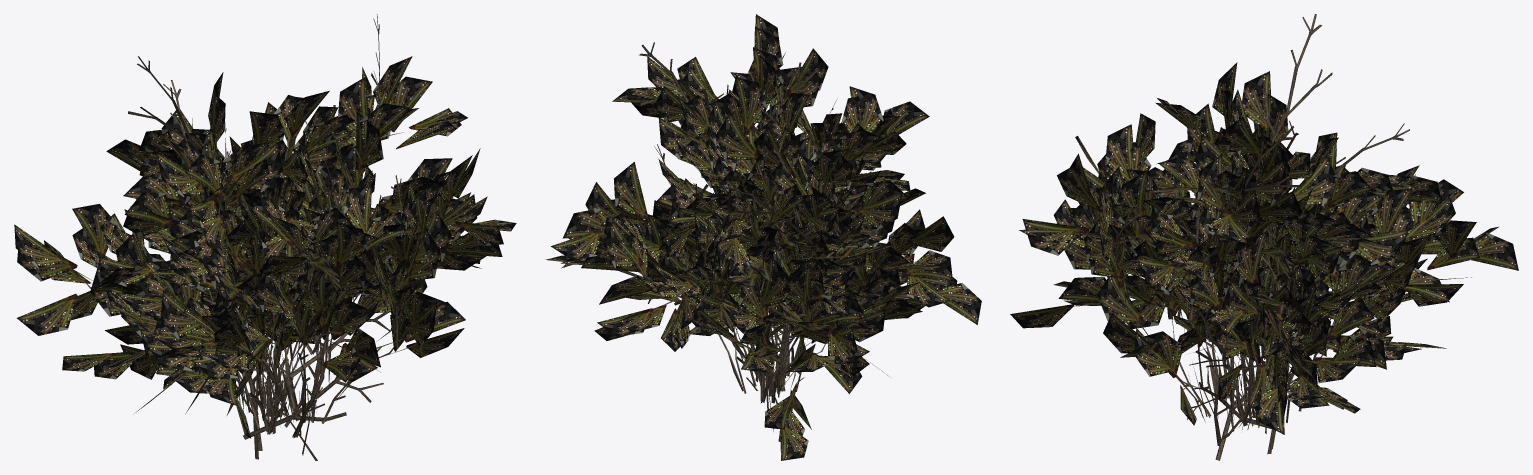
The model's file is wild_rooibos_bush.glb.
The picture shows the model from 3 angles, left to right: view 1: azimuth 30°, elevation 25°; view 2: azimuth 150°, elevation 25°; view 3: azimuth 270°, elevation 25°; orthographic projection. The views are drawn at different scales.
Parts seen in each view (by area): view 1: a_lod0, b_lod0, c_lod0, d_lod0; view 2: a_lod0, b_lod0, c_lod0, d_lod0; view 3: a_lod0, b_lod0, d_lod0, c_lod0.
Boxes of the visible parts, x1,y1,x2,y2 form: a_lod0: (14, 14, 516, 460); b_lod0: (62, 56, 464, 439); c_lod0: (96, 168, 374, 459); d_lod0: (177, 105, 389, 433); a_lod0: (545, 14, 981, 396); b_lod0: (626, 86, 925, 460); c_lod0: (596, 123, 925, 431); d_lod0: (652, 144, 876, 400); a_lod0: (1010, 89, 1518, 460); b_lod0: (1103, 14, 1446, 439); d_lod0: (1186, 202, 1408, 433); c_lod0: (1144, 103, 1412, 454).
Size of the model in its own units: 0.693 by 0.6495 by 0.757.
Materials: 2 (2 with a texture image).
